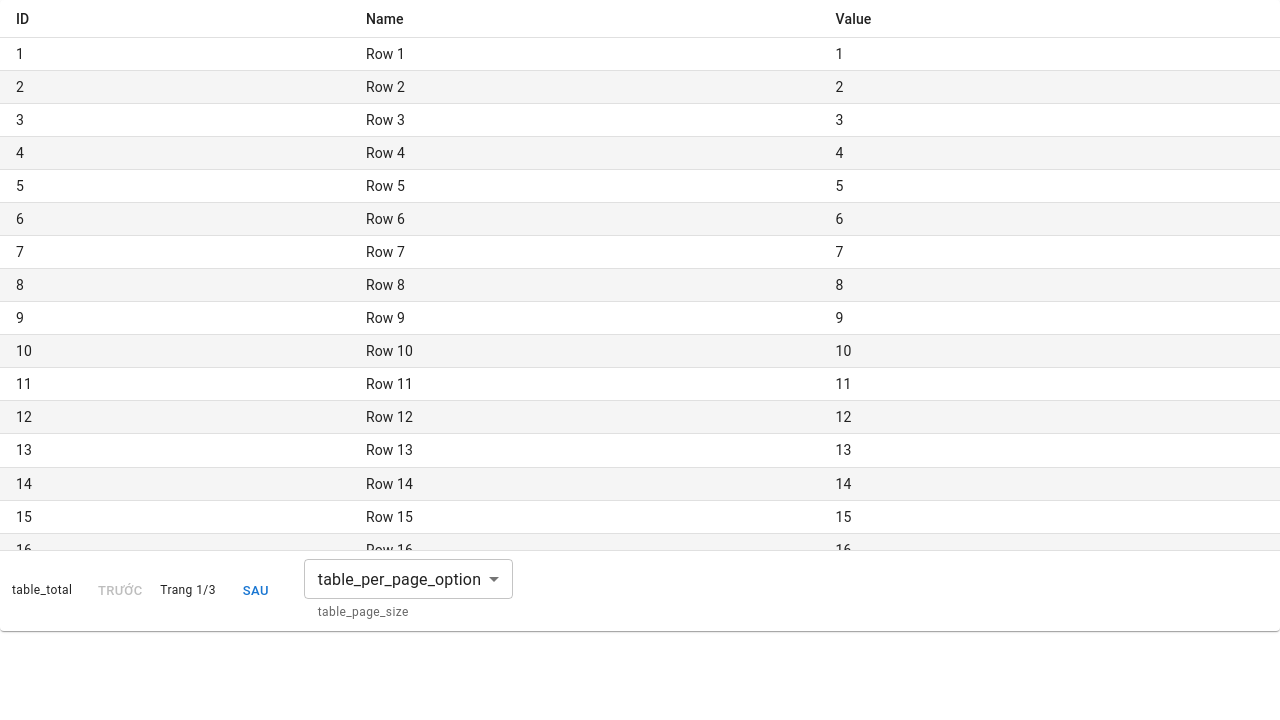
Test case: DataTable pagination › navigates pages and respects page size
Note: Go next page
Click the button "Sau". click: (256, 591)
box: [224,576,288,606]
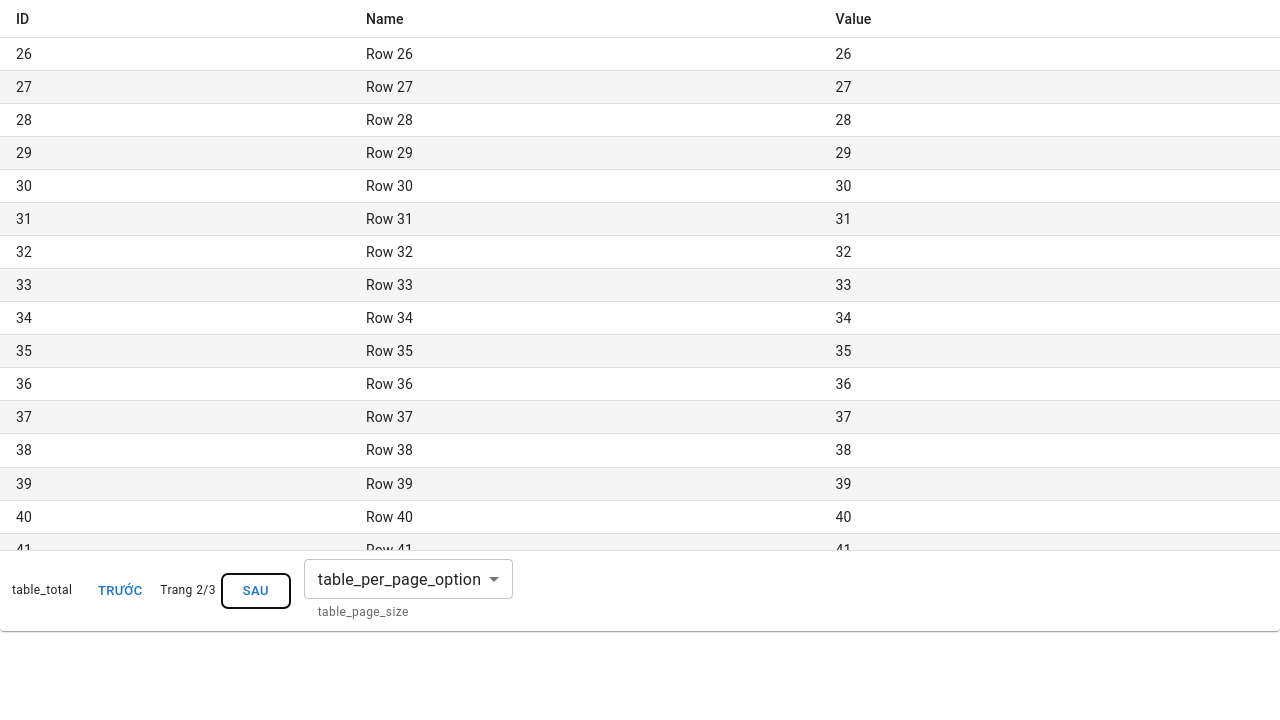
expect the text "Trang 2/3" is shown: met, box [160,581,216,601]
Note: Last page
Click the button "Sau". click: (256, 591)
box: [224,576,288,606]
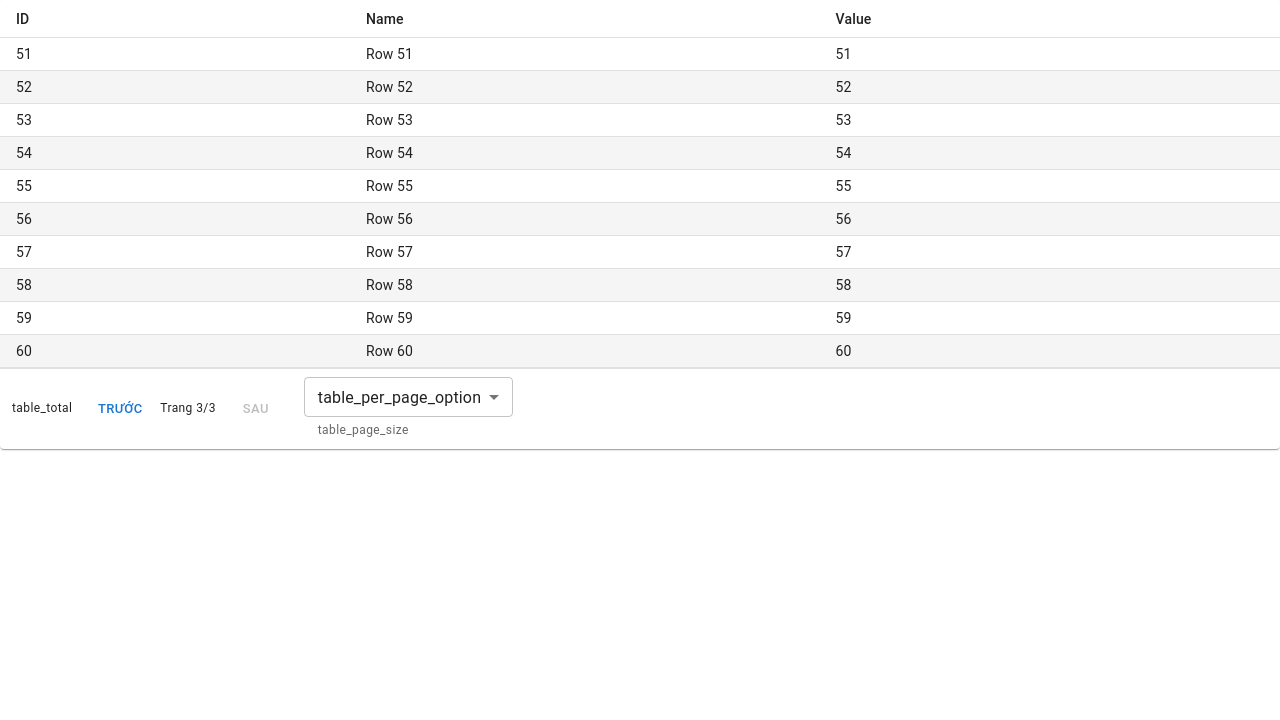
expect the text "Trang 3/3" is shown: met, box [160,400,216,419]
expect the number of rows is 11: met
